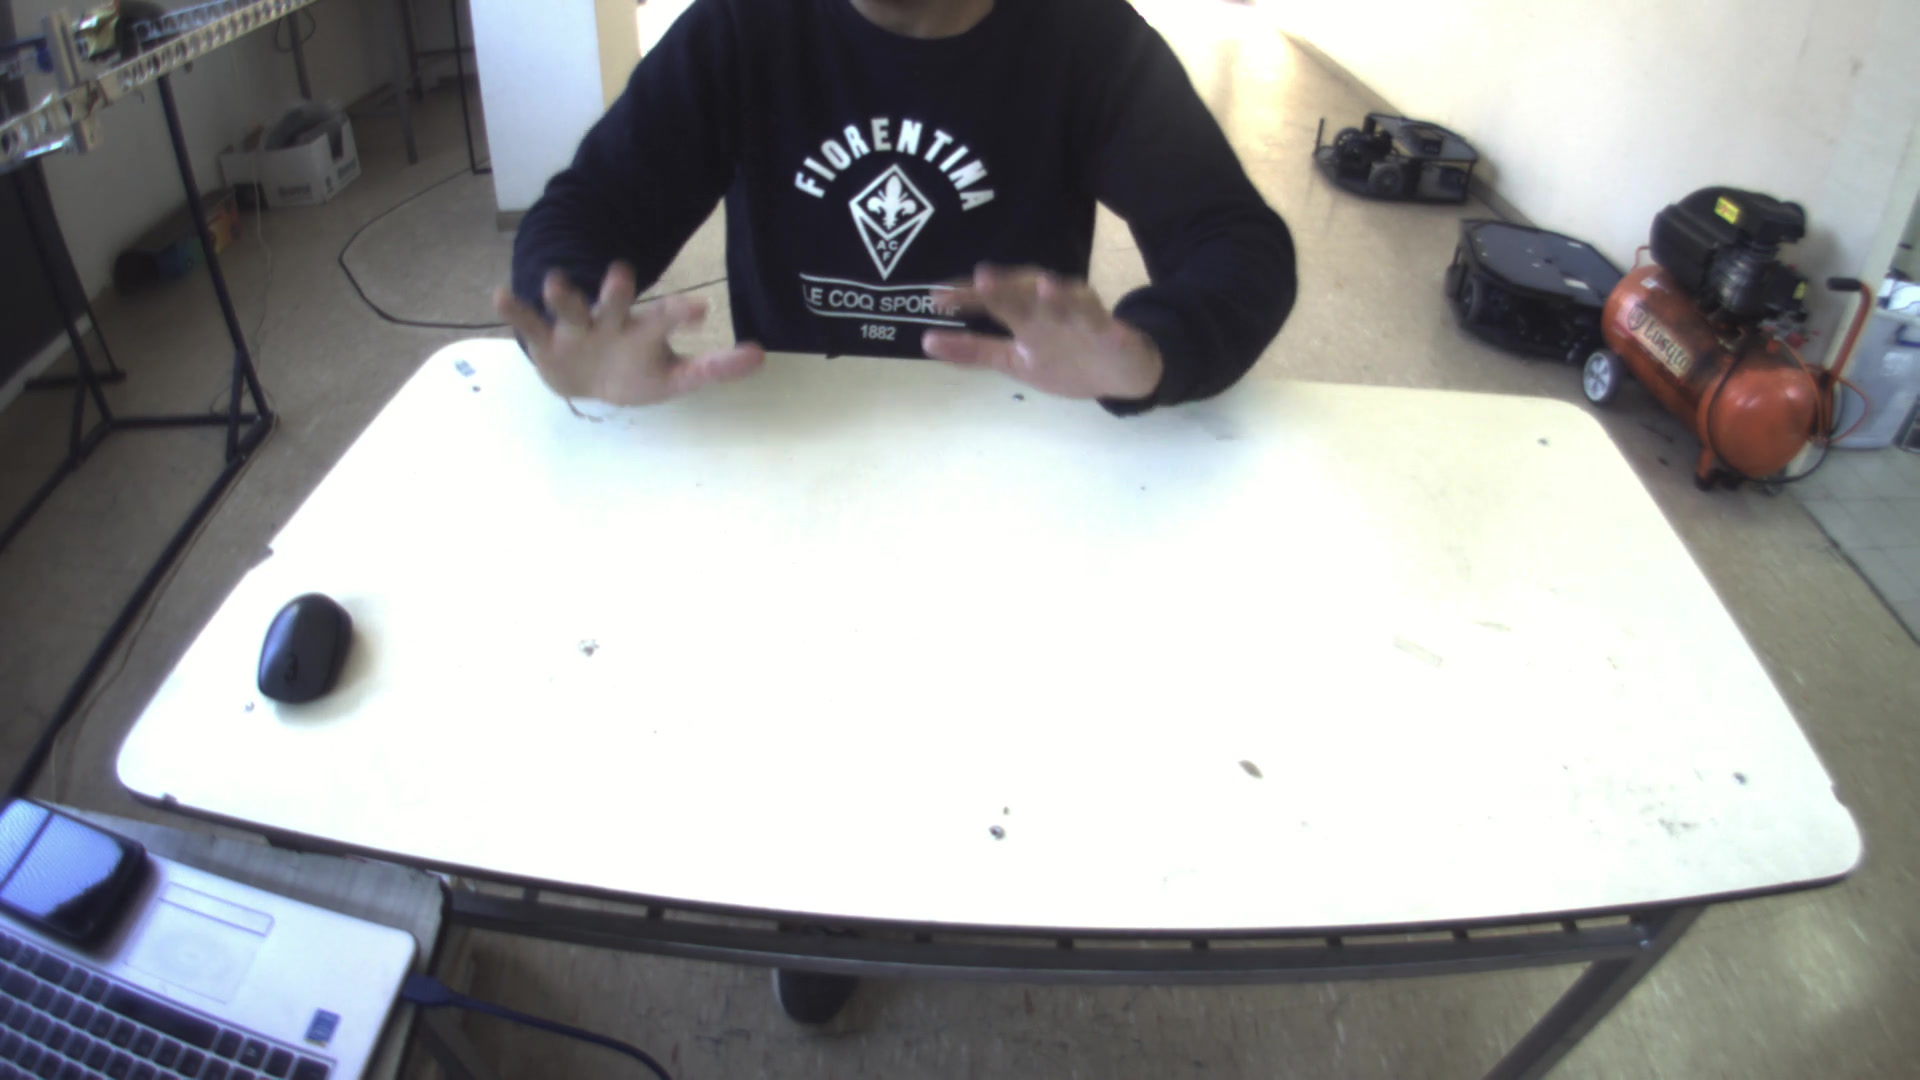hand: (477, 253, 766, 417), (905, 251, 1156, 407)
